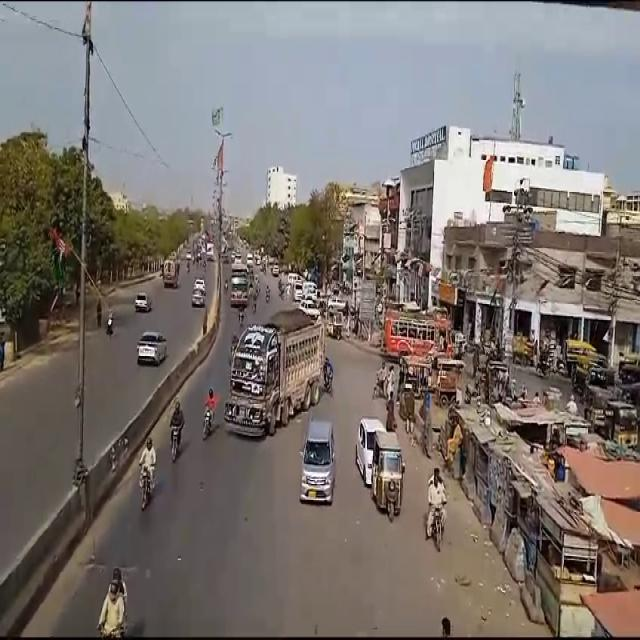car: (139, 331, 169, 365), (134, 294, 151, 313), (192, 288, 207, 307)
motorbike: (132, 420, 160, 515)
truck: (228, 313, 332, 442)
